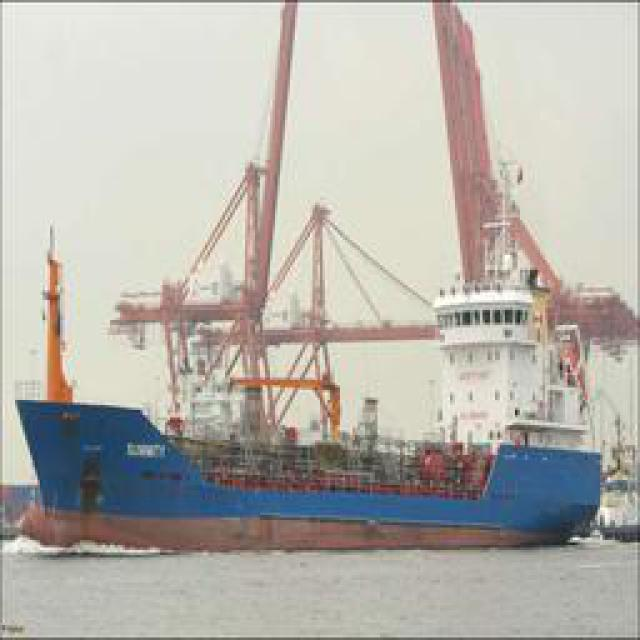Ship: (11, 411, 606, 554)
